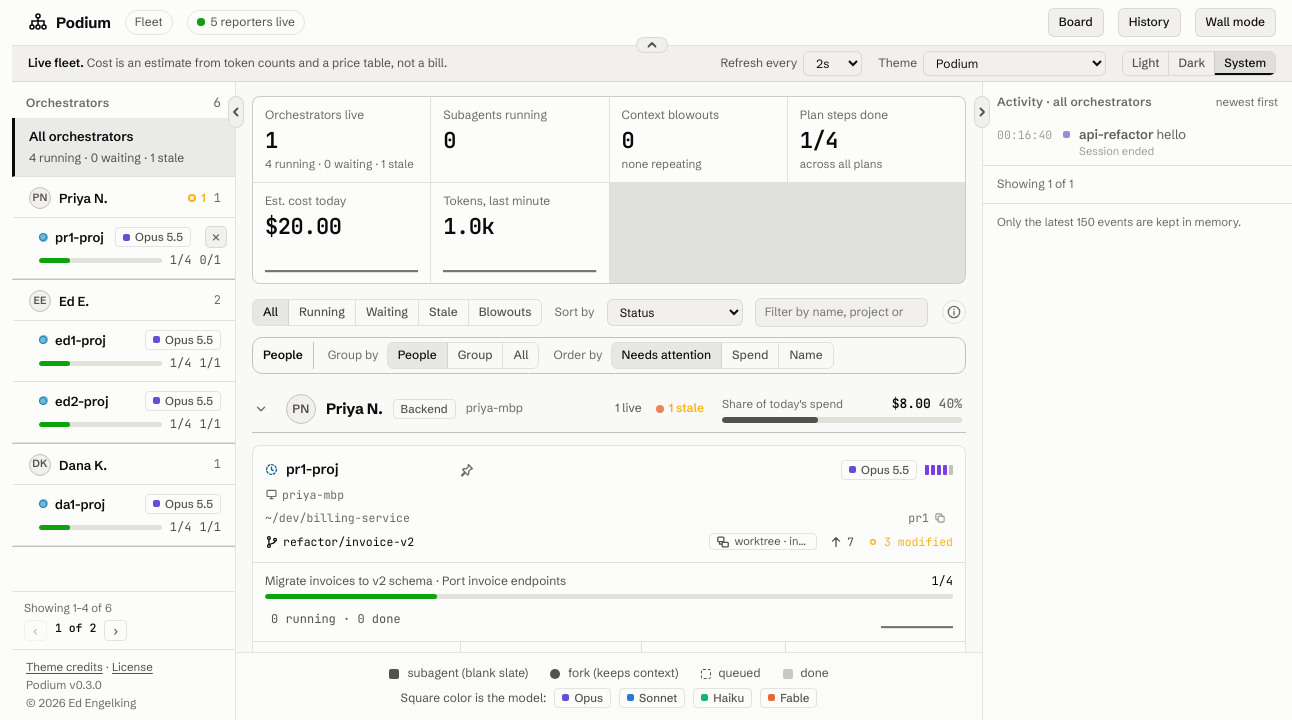
it: people view › group by All is the flat wall with each card's owner
Click the button "All" in the row of "Group by". click: [521, 355]
box: [503, 343, 538, 368]
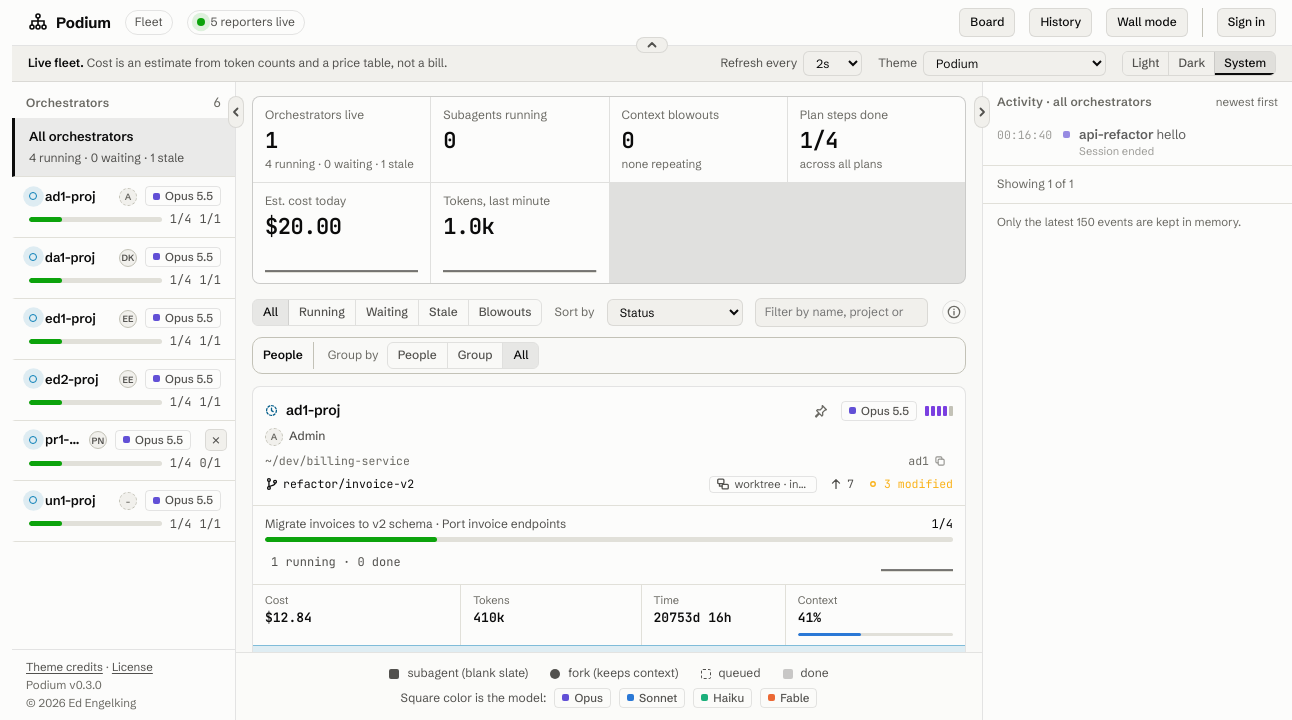
expect the element with class "bands" is gone: met
expect the text "Order by" is gone: met
